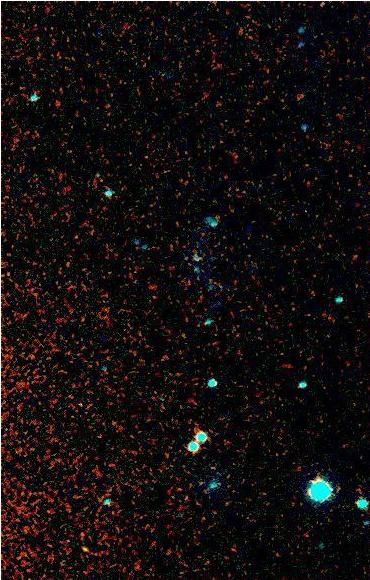star: (68, 534, 98, 564)
